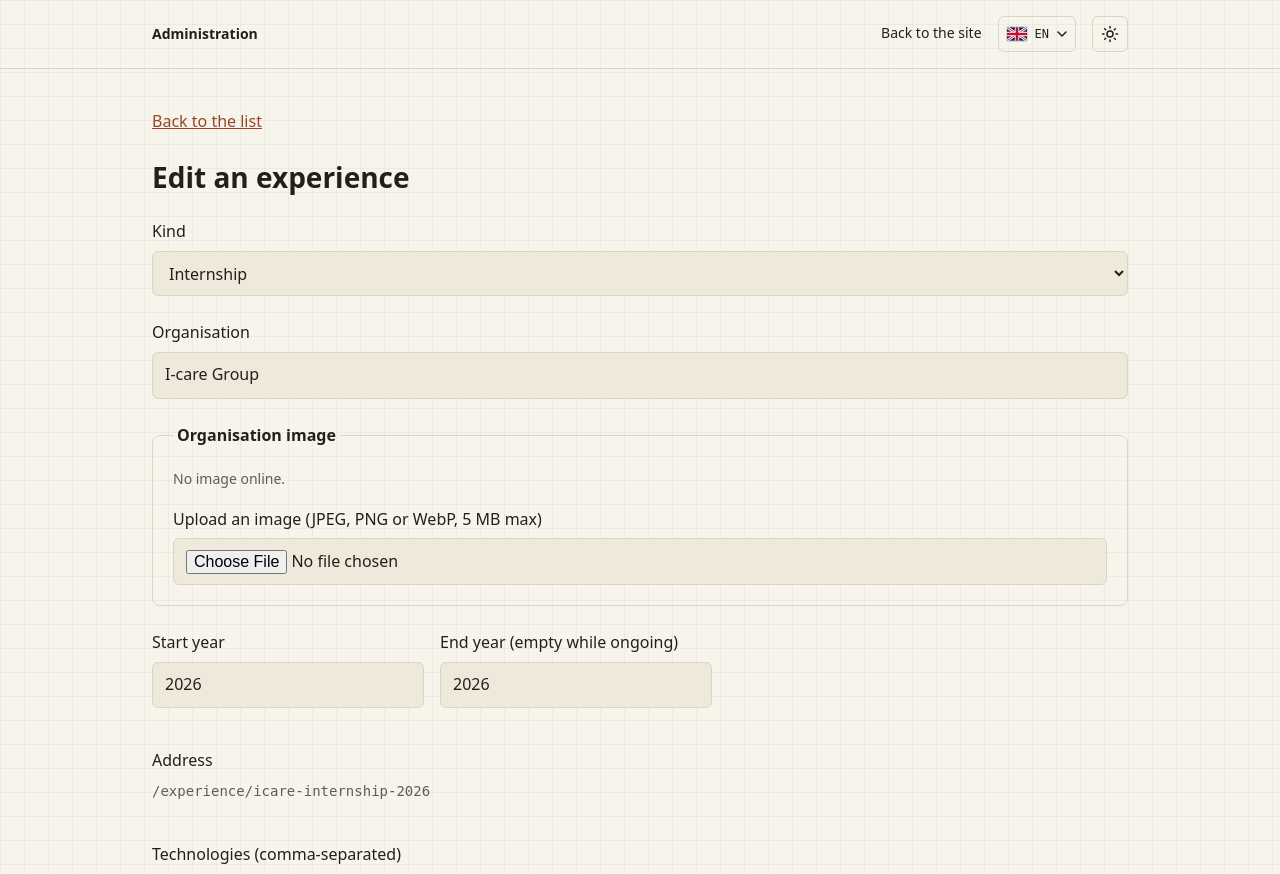
Test case: editing an experience › warns before leaving with unsaved changes
The image size is (1280, 874).
Replace the text in the field labelled "Organisation" with "Changed" at (640,375), box [152, 352, 1128, 399]
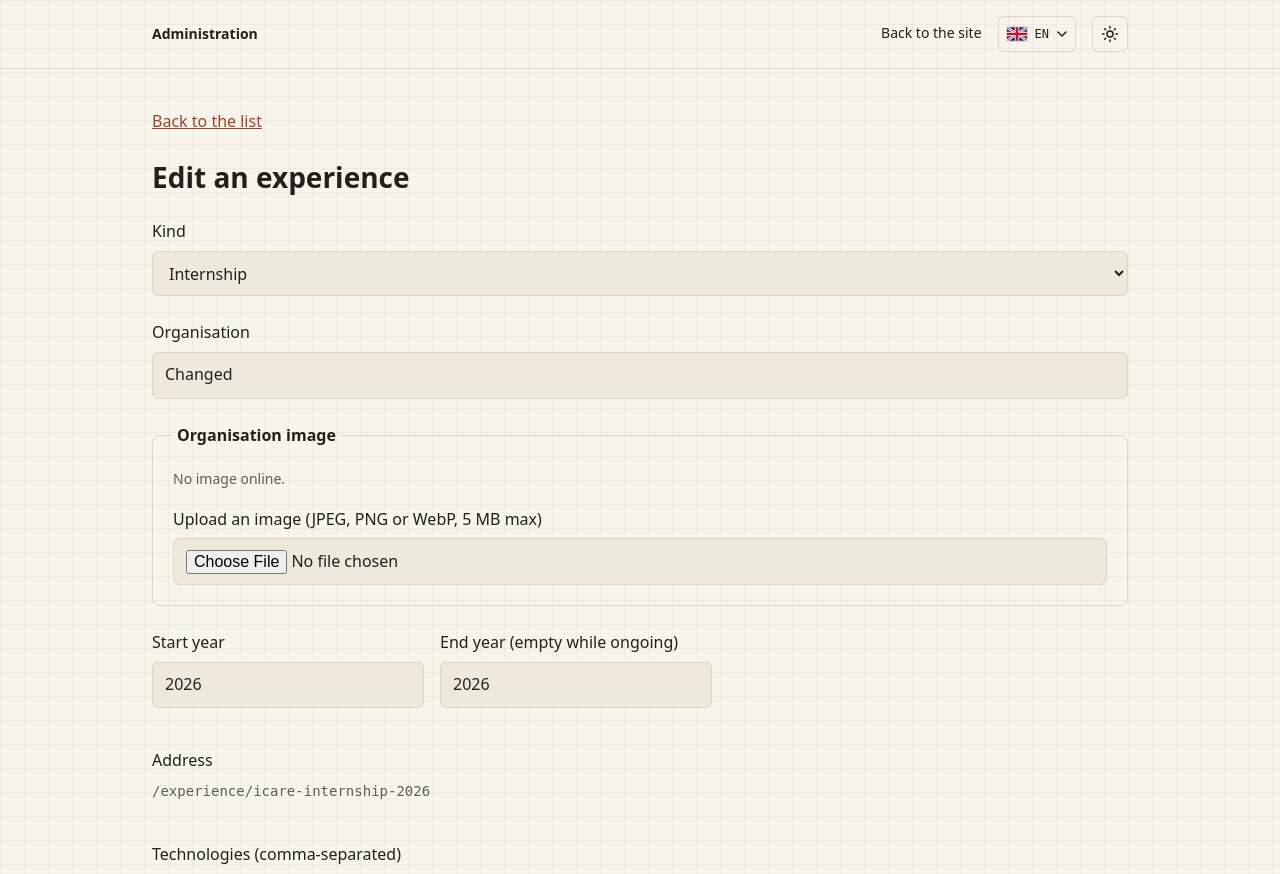
Click the link "Back to the list" at (207,121), box [152, 110, 262, 132]
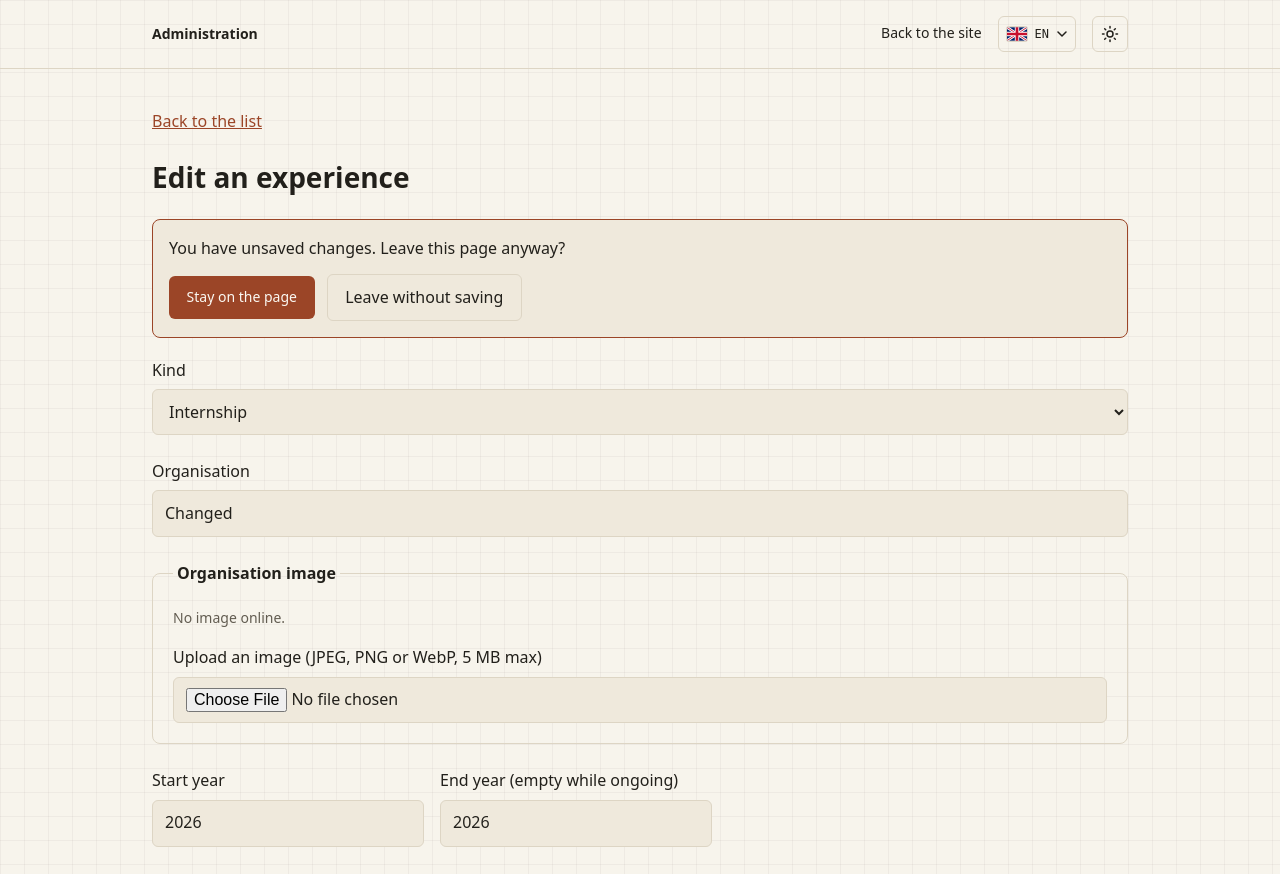
Result: the dialog shows "unsaved changes" at [169, 237, 565, 259]
